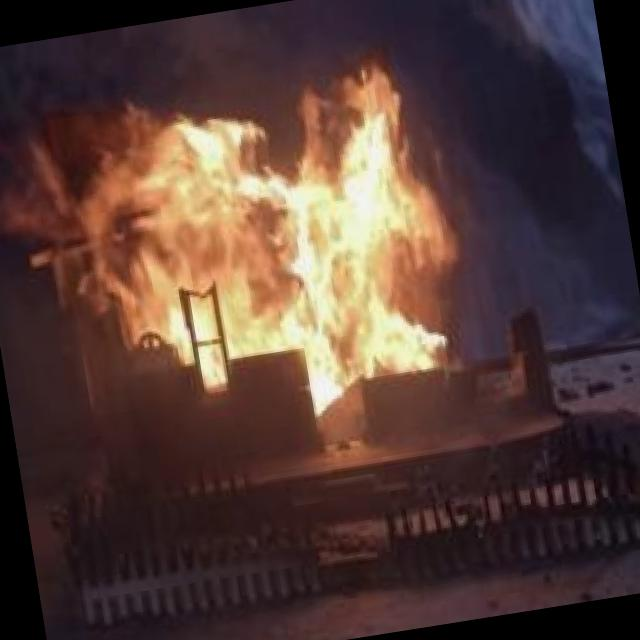fire: (27, 45, 464, 408)
